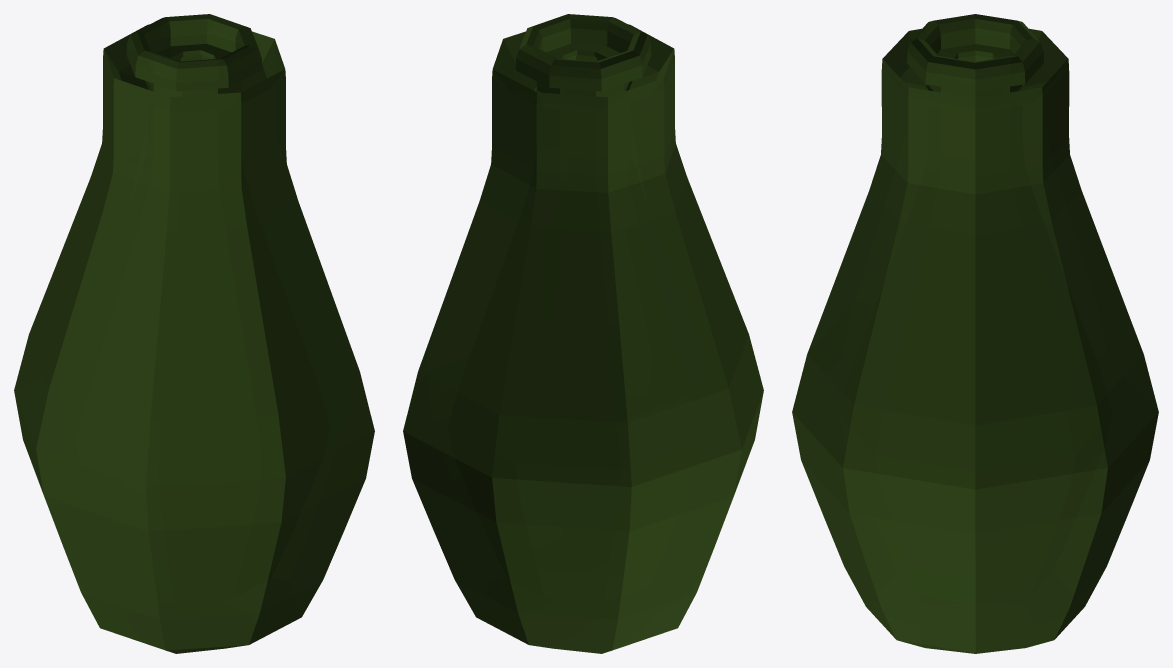
Rendered from Vase 13.fbx.
3 views of the same model, side by side, from view 1: azimuth 30°, elevation 25°; view 2: azimuth 150°, elevation 25°; view 3: azimuth 270°, elevation 25° (orthographic).
Visible parts, largest first — view 1: Node 0; view 2: Node 0; view 3: Node 0.
Boxes of the visible parts, left/top/right/bottom form: Node 0: left=14, top=14, right=374, bottom=653; Node 0: left=403, top=14, right=763, bottom=653; Node 0: left=792, top=14, right=1158, bottom=653.
Bounding box in the file's own units: 0.1144 × 0.2038 × 0.1144.
